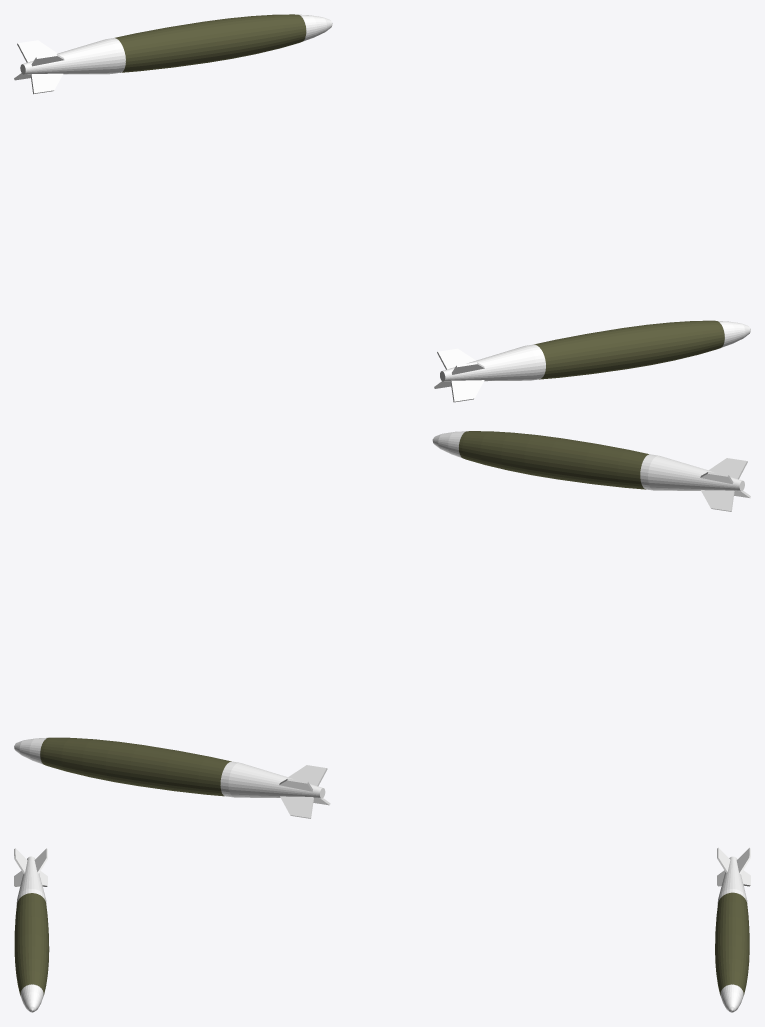
3 views of the same model, one above another, from view 1: azimuth 30°, elevation 25°; view 2: azimuth 150°, elevation 25°; view 3: azimuth 270°, elevation 25° (orthographic). The views are drawn at different scales.
Visible parts, largest first — view 1: 円柱.007, 円柱.010; view 2: 円柱.010, 円柱.007; view 3: 円柱.007, 円柱.010.
Part boxes in pixels (bbox=[...]): 円柱.007: bbox=[14, 14, 332, 94]; 円柱.010: bbox=[434, 320, 750, 402]; 円柱.010: bbox=[432, 431, 750, 511]; 円柱.007: bbox=[14, 737, 330, 818]; 円柱.007: bbox=[715, 847, 750, 1012]; 円柱.010: bbox=[14, 848, 49, 1012].
Size of the model in its own units: 2.41 by 0.4243 by 5.94.
Materials: 3 (1 with a texture image).
